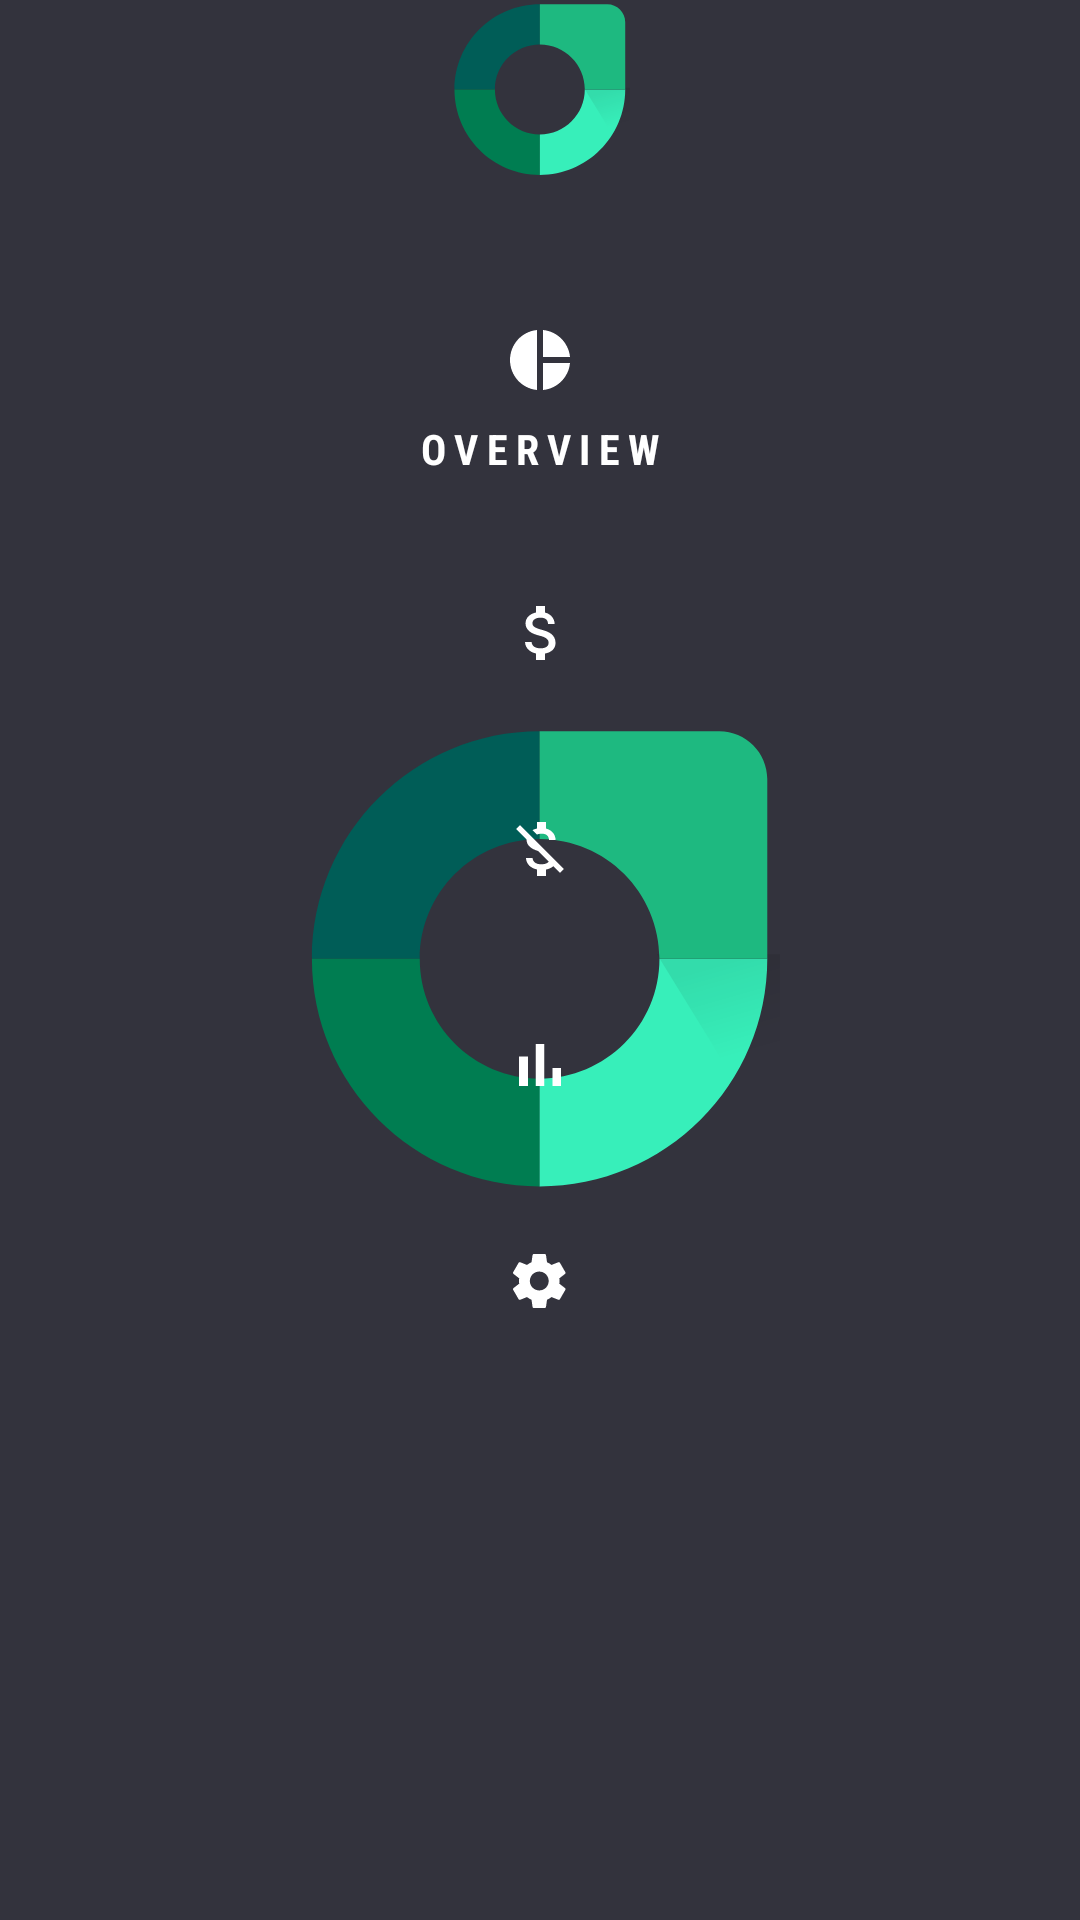

Named icons in this screenshot (1080 x 1920) and their centers, [x,y]:
attach money: [540,633]
bar chart: [540,1065]
money off: [540,849]
pie chart: [540,360]
settings: [539,1281]
